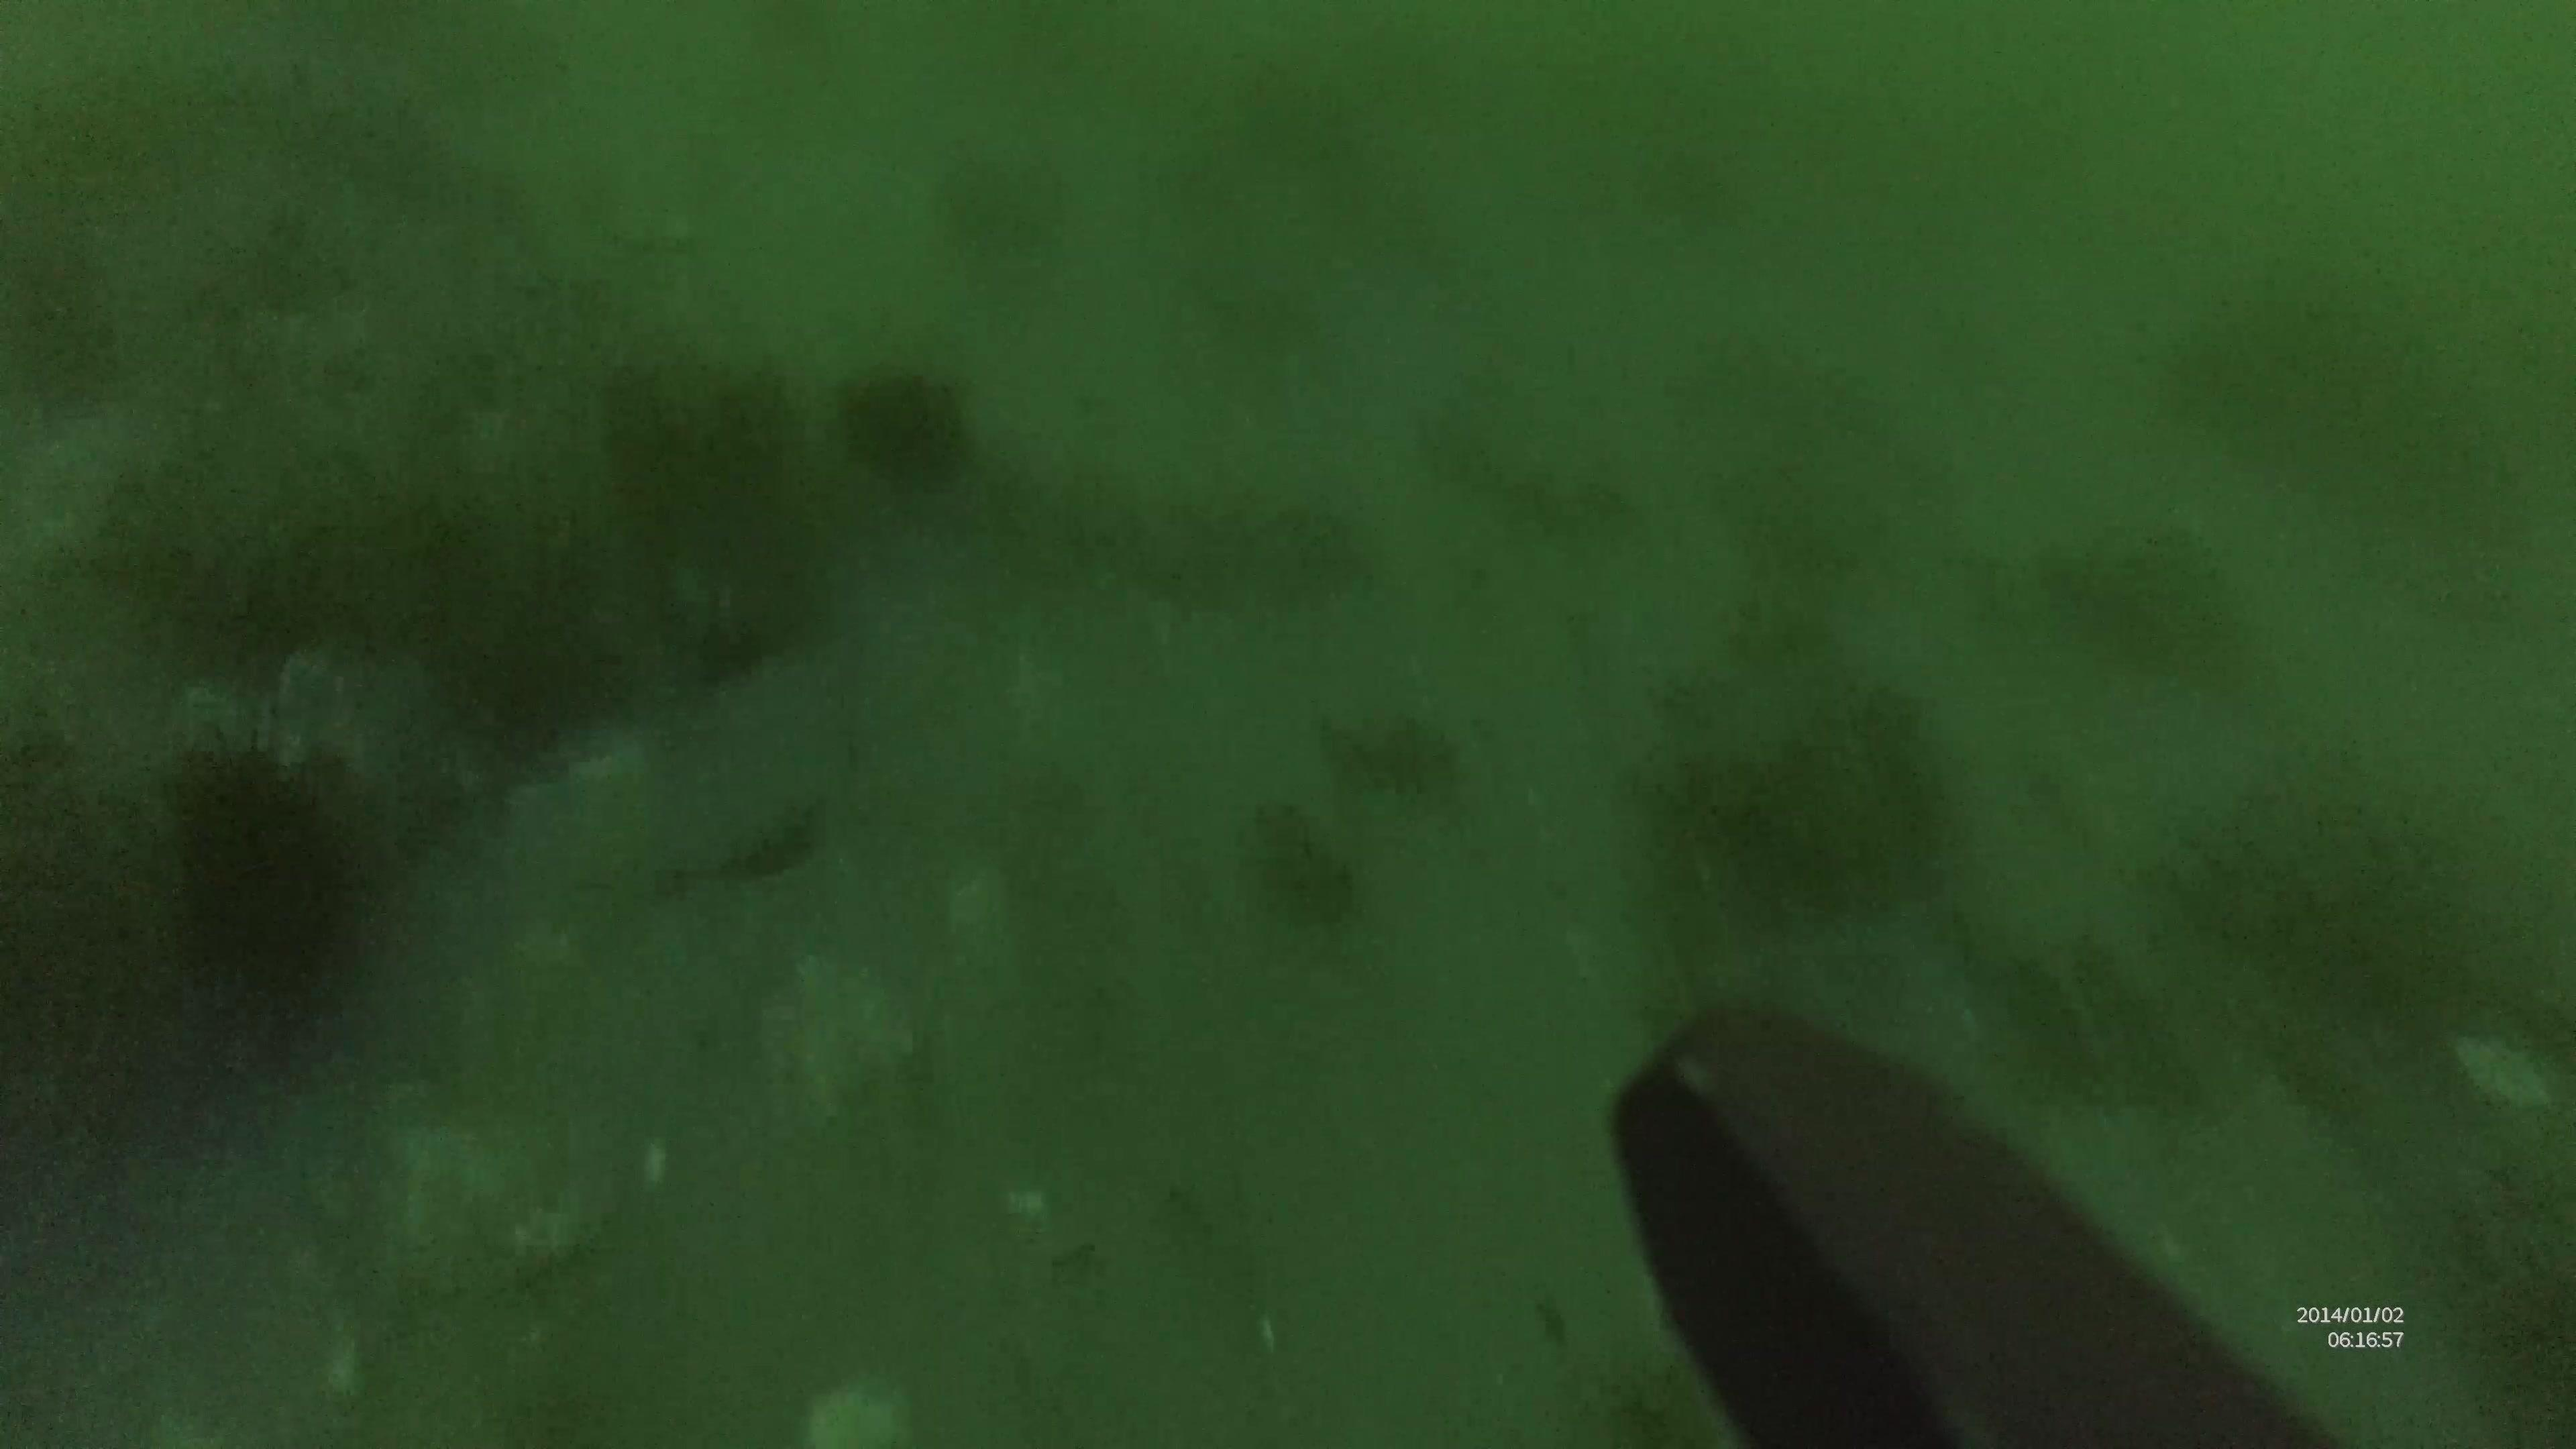echinus: (154, 738, 356, 1033), (835, 372, 968, 488)
scallop: (391, 1106, 614, 1286), (738, 941, 918, 1100)
